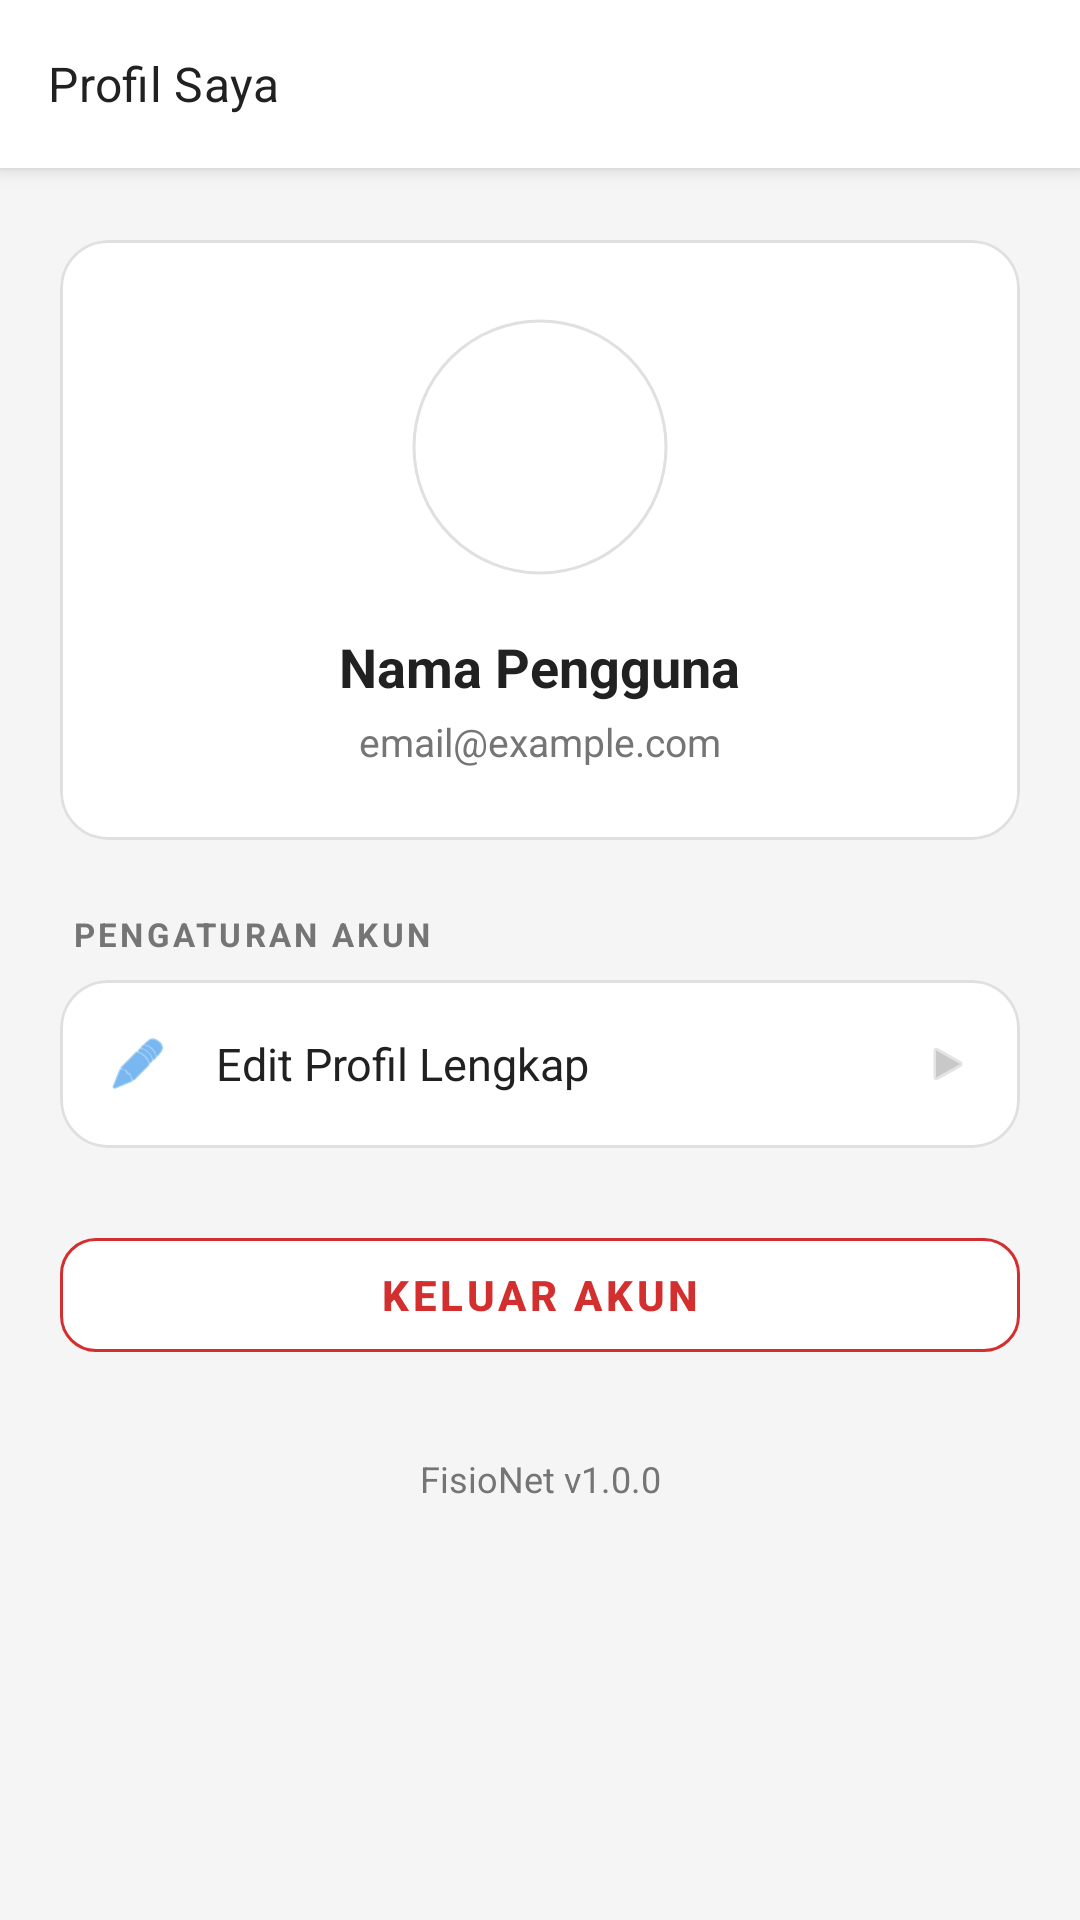

Icon bounding boxes for this 1080 × 1920 phone screenshot, format (x1, y1, x2, y2):
play: (934, 1048, 962, 1080)
